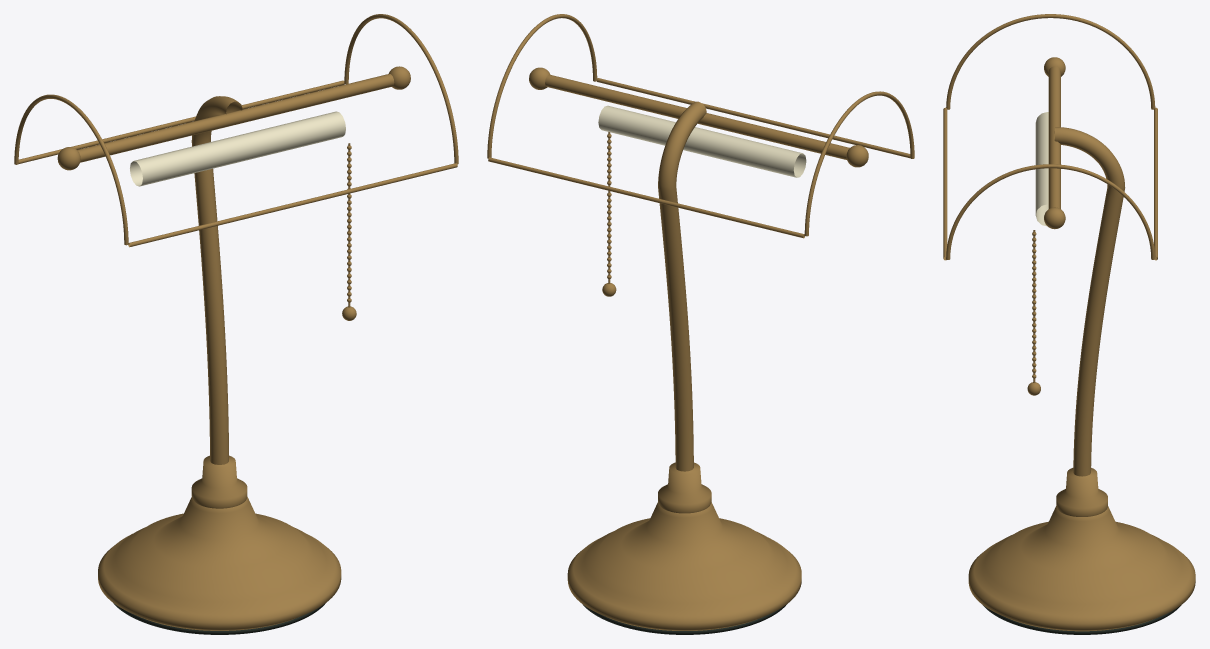
Rendered from BankersLamp.fbx.
3 views of the same model, side by side, from view 1: azimuth 30°, elevation 25°; view 2: azimuth 150°, elevation 25°; view 3: azimuth 270°, elevation 25° (orthographic). The views are drawn at different scales.
Parts seen in each view (by area): view 1: Base_SpunBrass, Stem_CurvedBrass, Bulb_OpalTube, Shade_Axle, Stem_Collar, Shade_Rim_-0.1, Shade_Rim_0.054, Shade_EndRim_-0.13, Shade_EndRim_0.13, Base_Felt; view 2: Base_SpunBrass, Stem_CurvedBrass, Bulb_OpalTube, Shade_Axle, Stem_Collar, Shade_Rim_0.054, Shade_Rim_-0.1, Shade_EndRim_-0.13, Shade_EndRim_0.13, Base_Felt; view 3: Base_SpunBrass, Stem_CurvedBrass, Stem_Collar, Shade_Axle, Shade_EndRim_-0.13, Shade_EndRim_0.13, Bulb_OpalTube, Base_Felt, Shade_Rim_-0.1, Shade_Rim_0.054, Shade_PivotCap_0.13.
Part boxes in pixels (x1=…): Base_SpunBrass: x1=98, y1=497, x2=341, y2=630; Stem_CurvedBrass: x1=191, y1=96, x2=242, y2=464; Bulb_OpalTube: x1=130, y1=111, x2=345, y2=186; Shade_Axle: x1=77, y1=74, x2=394, y2=162; Stem_Collar: x1=191, y1=455, x2=247, y2=508; Shade_Rim_-0.1: x1=128, y1=163, x2=457, y2=247; Shade_Rim_0.054: x1=18, y1=80, x2=344, y2=163; Shade_EndRim_-0.13: x1=14, y1=94, x2=128, y2=245; Shade_EndRim_0.13: x1=344, y1=14, x2=458, y2=164; Base_Felt: x1=113, y1=603, x2=325, y2=634; Base_SpunBrass: x1=567, y1=502, x2=801, y2=630; Stem_CurvedBrass: x1=658, y1=101, x2=706, y2=471; Bulb_OpalTube: x1=598, y1=105, x2=806, y2=177; Shade_Axle: x1=545, y1=74, x2=849, y2=159; Stem_Collar: x1=658, y1=462, x2=711, y2=513; Shade_Rim_0.054: x1=488, y1=157, x2=804, y2=238; Shade_Rim_-0.1: x1=597, y1=78, x2=910, y2=158; Shade_EndRim_-0.13: x1=804, y1=91, x2=914, y2=236; Shade_EndRim_0.13: x1=487, y1=14, x2=597, y2=158; Base_Felt: x1=582, y1=604, x2=786, y2=634; Base_SpunBrass: x1=968, y1=506, x2=1195, y2=631; Stem_CurvedBrass: x1=1054, y1=127, x2=1125, y2=476; Stem_Collar: x1=1056, y1=467, x2=1107, y2=516; Shade_Axle: x1=1048, y1=66, x2=1060, y2=208; Shade_EndRim_-0.13: x1=946, y1=14, x2=1155, y2=109; Shade_EndRim_0.13: x1=946, y1=164, x2=1155, y2=259; Bulb_OpalTube: x1=1035, y1=112, x2=1048, y2=226; Base_Felt: x1=983, y1=605, x2=1181, y2=634; Shade_Rim_-0.1: x1=943, y1=107, x2=947, y2=260; Shade_Rim_0.054: x1=1154, y1=107, x2=1157, y2=260; Shade_PivotCap_0.13: x1=1044, y1=207, x2=1065, y2=229.
Size of the model in its own units: 27.6 by 40.55 by 18.45.
